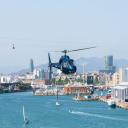helicopter: (44, 48, 98, 80)
